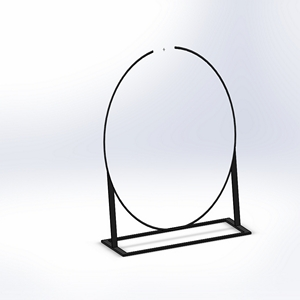circle: (99, 42, 252, 256)
